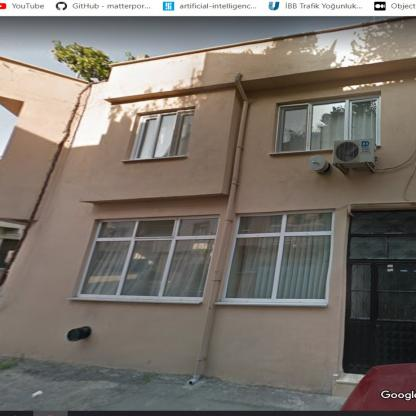door: (343, 261, 414, 372)
window: (73, 216, 217, 300), (219, 212, 331, 303), (274, 96, 381, 154), (128, 108, 193, 158), (351, 209, 415, 259)
